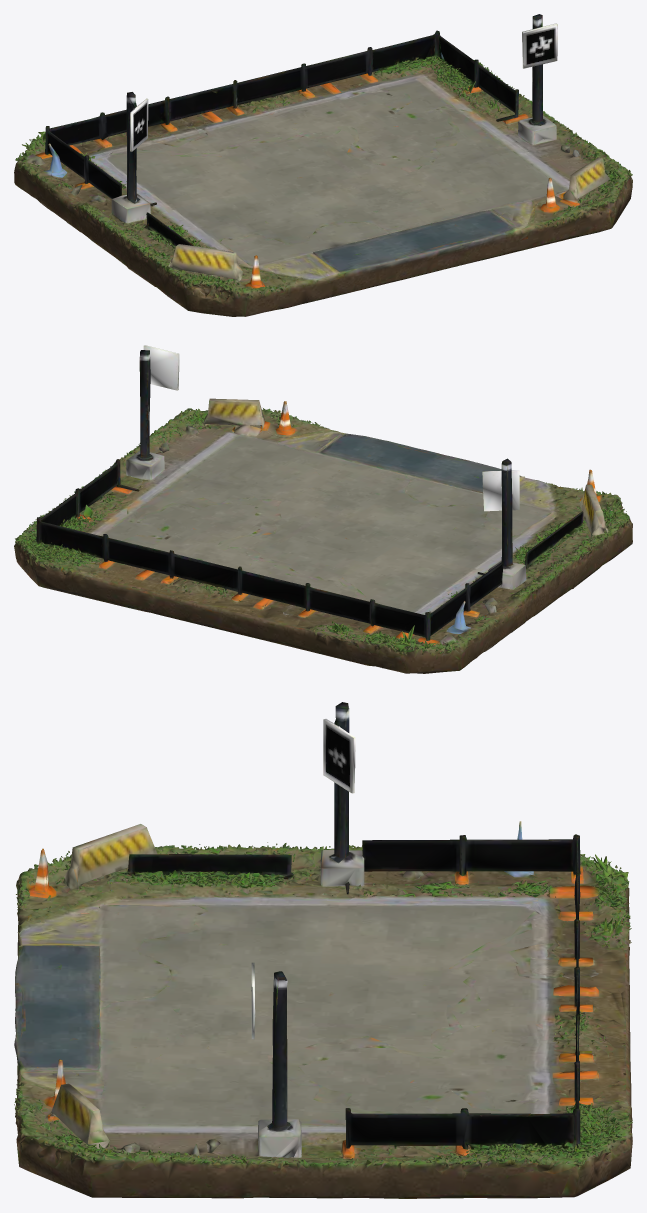
File: ground-lite.glb
3 renders of one model, top to bottom at view 1: azimuth 30°, elevation 25°; view 2: azimuth 150°, elevation 25°; view 3: azimuth 270°, elevation 25°, orthographic. The views are drawn at different scales.
Visible parts, largest first — view 1: geometry_0; view 2: geometry_0; view 3: geometry_0.
Part boxes in pixels (left/top/right/bottom): geometry_0: left=14, top=14, right=632, bottom=316; geometry_0: left=14, top=345, right=632, bottom=673; geometry_0: left=14, top=702, right=632, bottom=1198.
Size of the model in its own units: 0.9989 by 0.3168 by 0.8297.
1 material, 1 textured.
